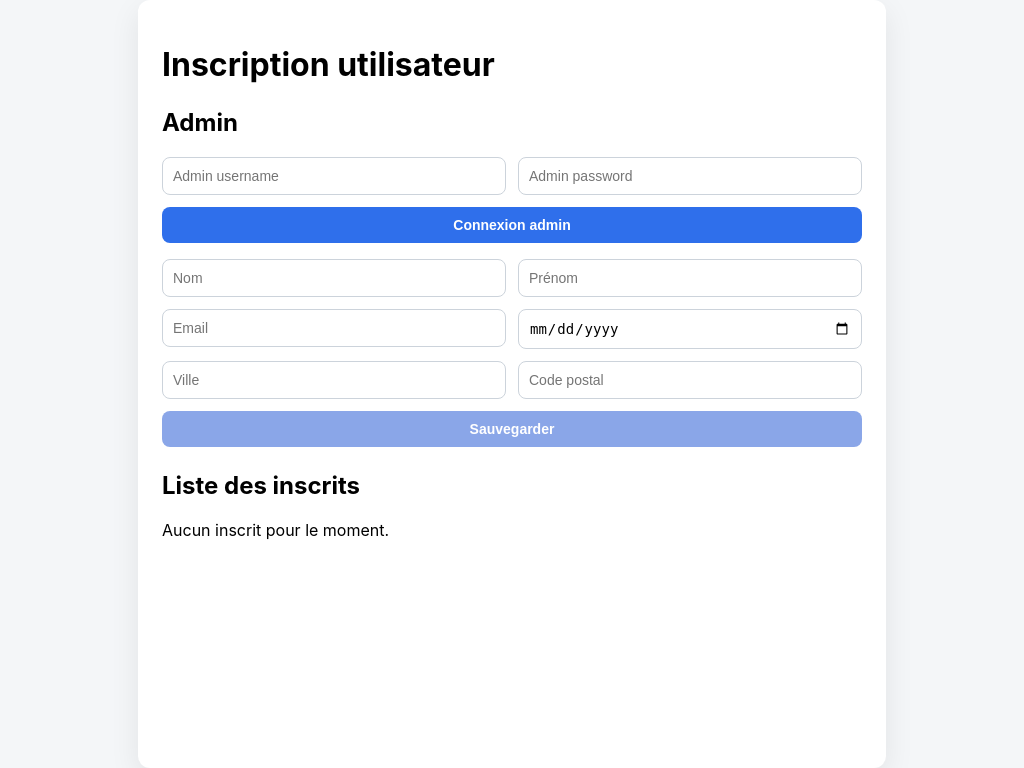
Scenario: affiche une erreur si l'enregistrement via l'API echoue
Type "Barrault" into the field labelled "Nom" at (334, 278), box [162,259,506,297]
Type "Thomas" into the field labelled "Prénom" at (690, 278), box [518,259,862,297]
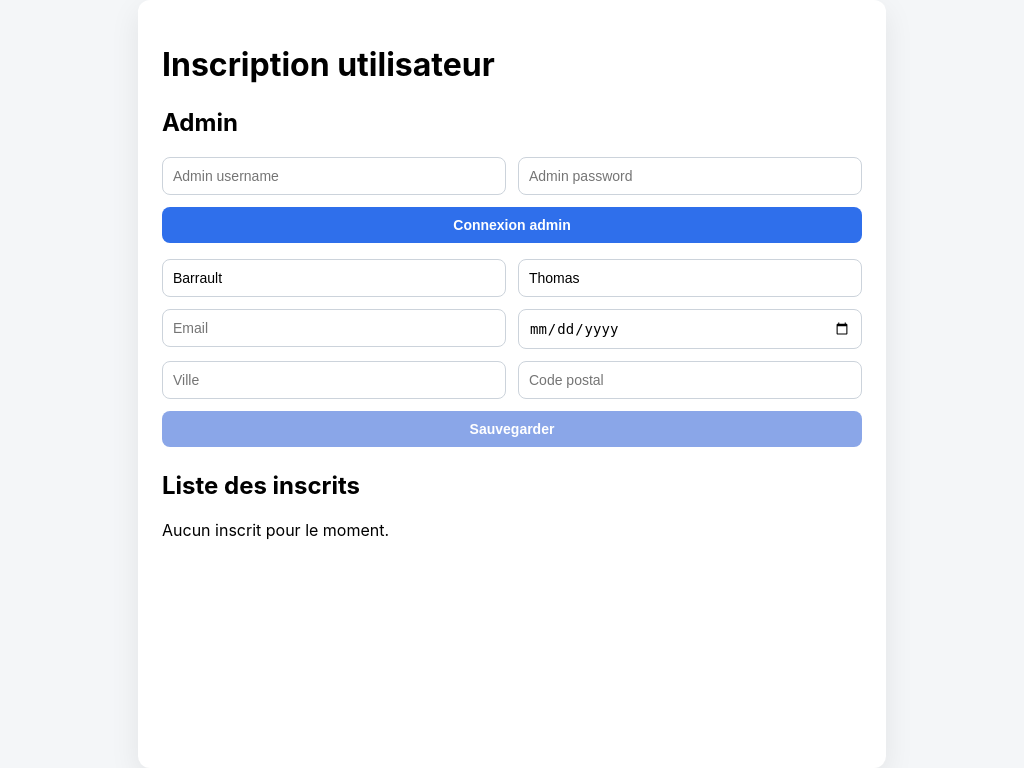
Type "Thomas.Barrault@mail.com" into the field labelled "Email" at (334, 328), box [162,309,506,347]
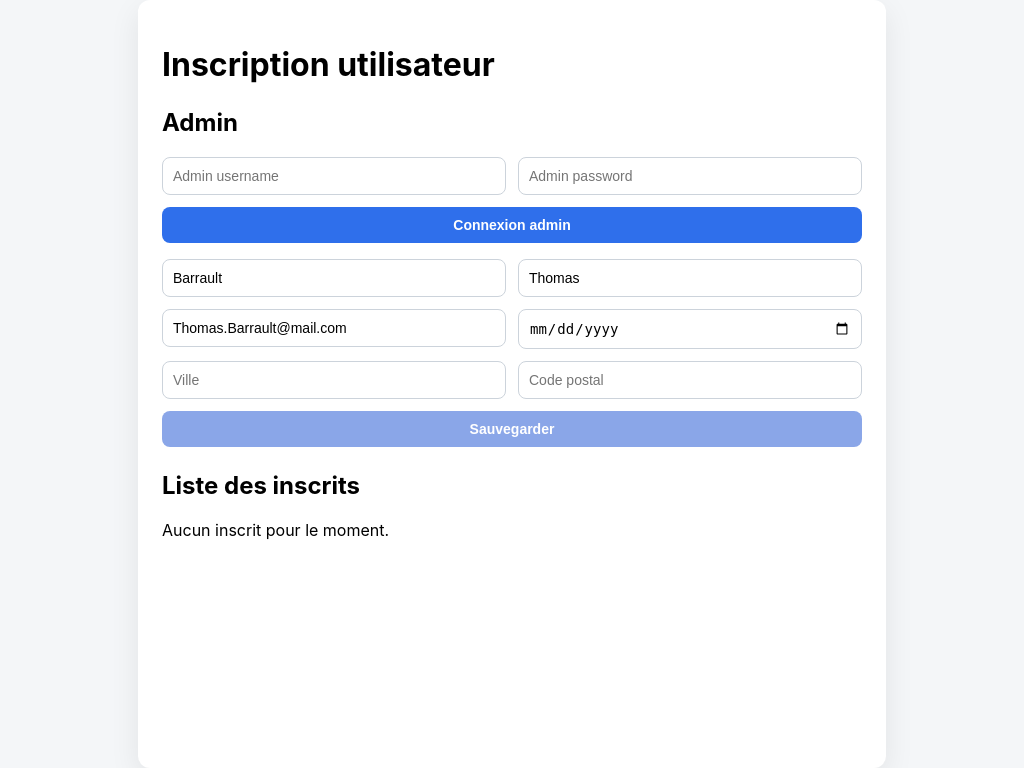
Type "2000-07-14" into the date field named "Date de naissance" at (690, 329), box [518,309,862,349]
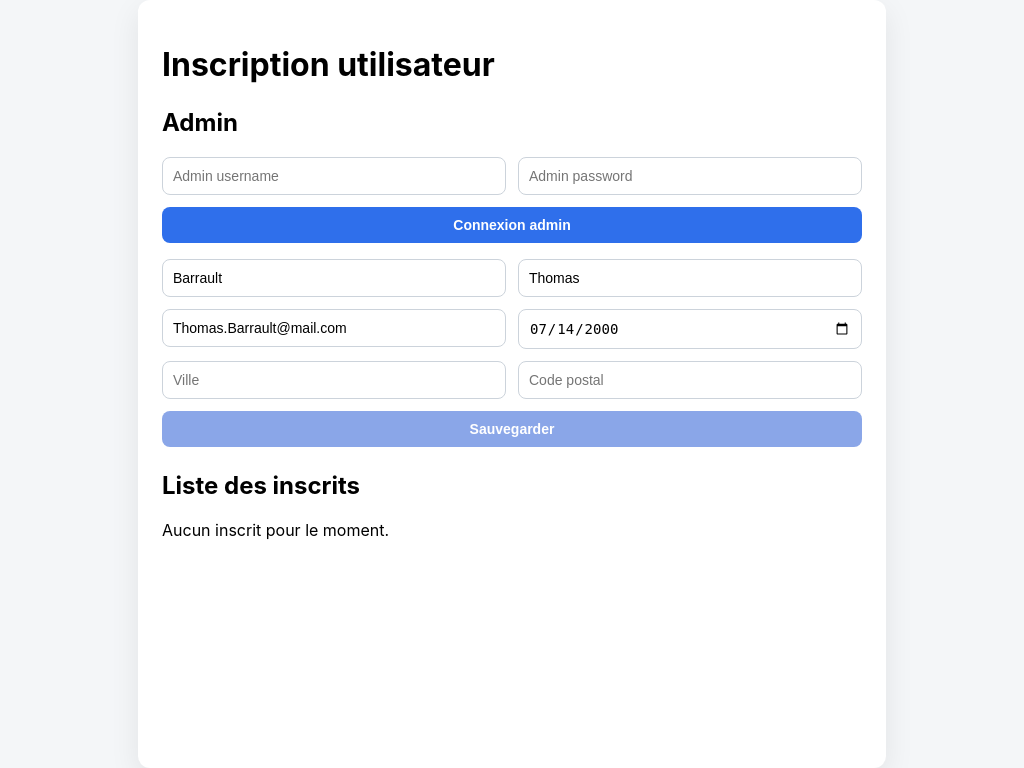
Type "Nice" into the field labelled "Ville" at (334, 380), box [162,361,506,399]
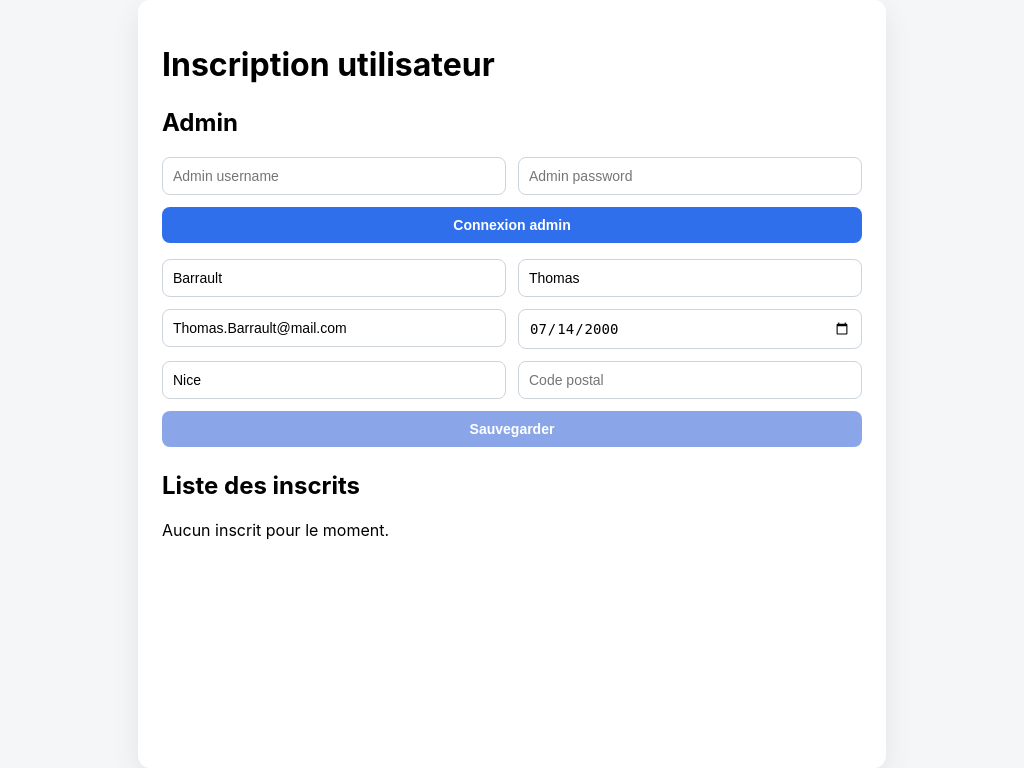
Type "06640" into the field labelled "Code postal" at (690, 380), box [518,361,862,399]
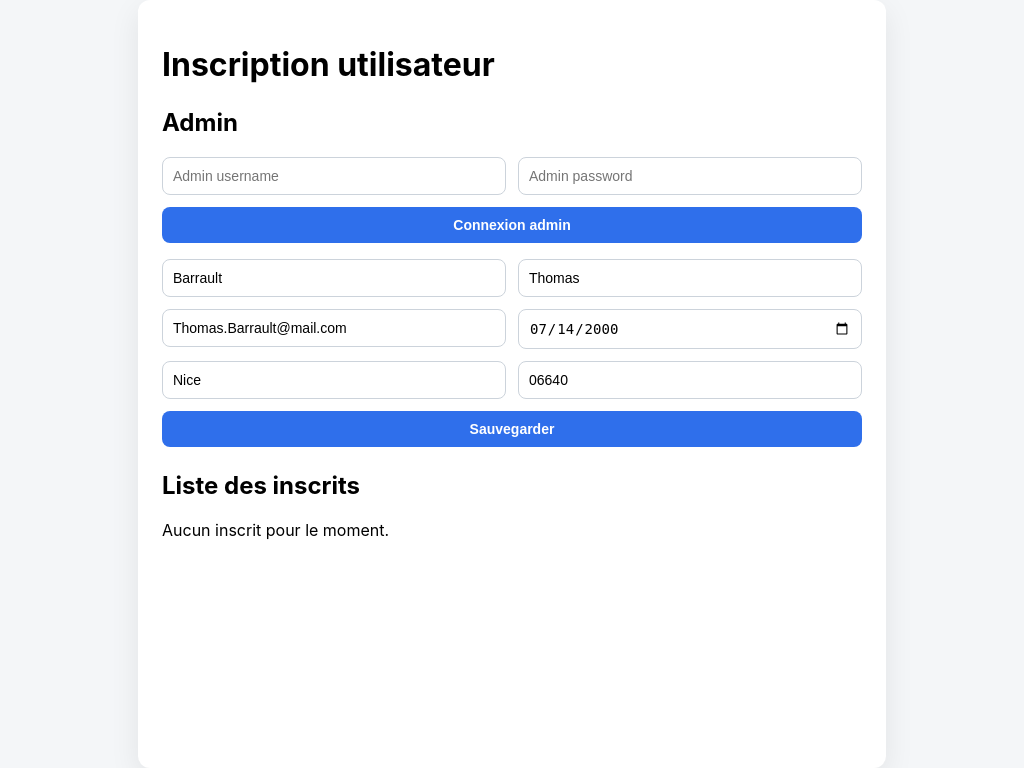
Click the button "Sauvegarder" at (512, 429), box [162,411,862,447]
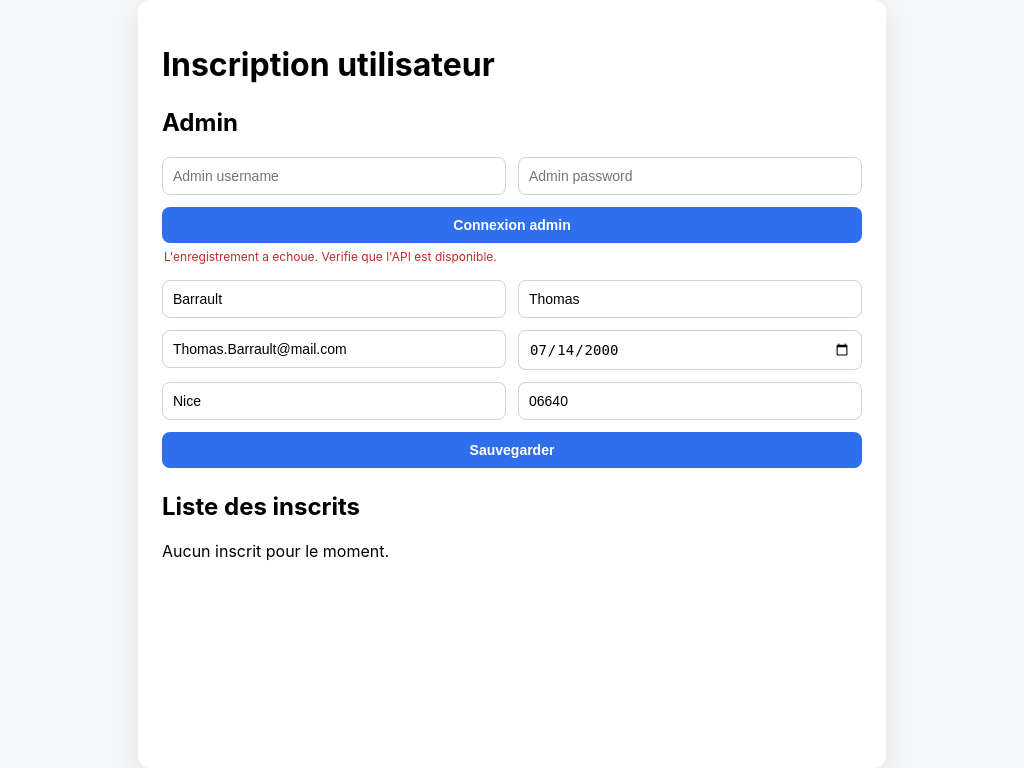
Expected: the text "L'enregistrement a echoue. Verifie que l'API est disponible." is shown, [164,249,497,264]
